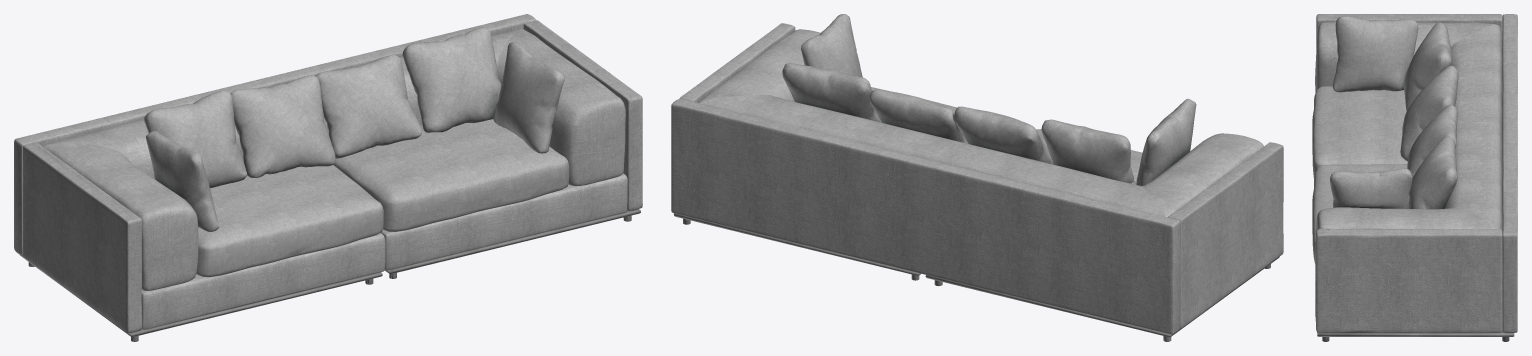
File: sofa_modern_ben.glb
The picture shows the model from 3 angles, left to right: view 1: azimuth 30°, elevation 25°; view 2: azimuth 150°, elevation 25°; view 3: azimuth 270°, elevation 25°; orthographic projection. The views are drawn at different scales.
Visible parts, largest first — view 1: defaultMaterial (×6); view 2: defaultMaterial (×5); view 3: defaultMaterial (×5).
Boxes of the visible parts, x1=… form: defaultMaterial (×6): x1=14, y1=14, x2=642, y2=341; defaultMaterial (×5): x1=671, y1=14, x2=1283, y2=341; defaultMaterial (×5): x1=1312, y1=14, x2=1517, y2=341.
Bounding box in the file's own units: 2 × 0.6017 × 0.7836.
6 materials, 6 textured.
